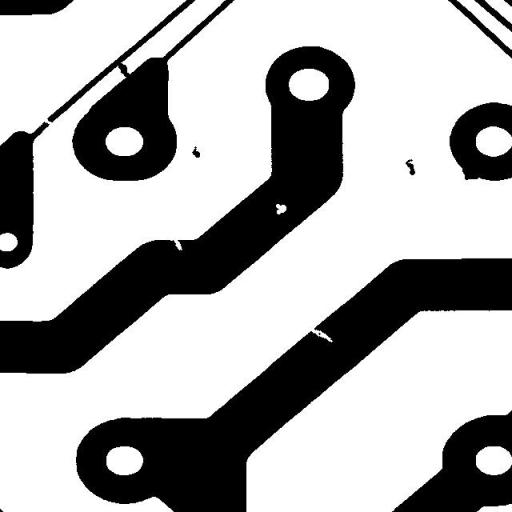copper: (398, 152, 422, 182), (184, 138, 207, 165)
mousebite: (301, 320, 340, 350), (162, 230, 190, 258)
open: (34, 109, 64, 136)
pin-hole: (268, 196, 294, 222)
short: (110, 55, 141, 87)
spur: (454, 160, 486, 187)
